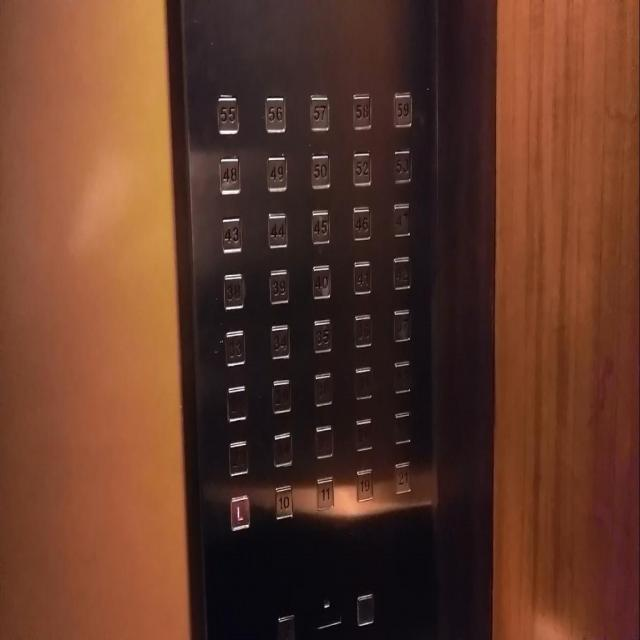10: (274, 482, 294, 522)
11: (316, 473, 334, 512)
19: (355, 466, 374, 504)
21: (393, 459, 412, 495)
33: (224, 328, 246, 368)
34: (270, 322, 290, 362)
35: (312, 317, 332, 355)
36: (353, 311, 372, 351)
37: (392, 306, 411, 344)
38: (222, 270, 244, 312)
39: (268, 266, 290, 306)
40: (310, 262, 332, 302)
41: (352, 258, 372, 297)
42: (392, 253, 411, 292)
43: (220, 213, 243, 255)
44: (266, 209, 288, 250)
45: (310, 205, 330, 246)
46: (351, 202, 371, 242)
47: (392, 199, 411, 239)
48: (217, 153, 242, 197)
49: (264, 150, 288, 194)
50: (308, 149, 332, 191)
52: (352, 148, 372, 188)
53: (392, 147, 413, 186)
55: (215, 90, 240, 136)
56: (264, 92, 288, 135)
57: (308, 90, 332, 133)
58: (350, 89, 372, 133)
59: (392, 88, 413, 130)
L: (229, 492, 251, 533)
blur: (225, 383, 248, 424), (270, 376, 292, 416), (272, 429, 293, 469), (313, 369, 333, 409), (228, 438, 248, 478), (392, 357, 412, 396), (314, 422, 334, 461), (353, 363, 372, 402), (354, 415, 373, 454), (394, 409, 412, 446)
empty: (354, 589, 376, 630)
